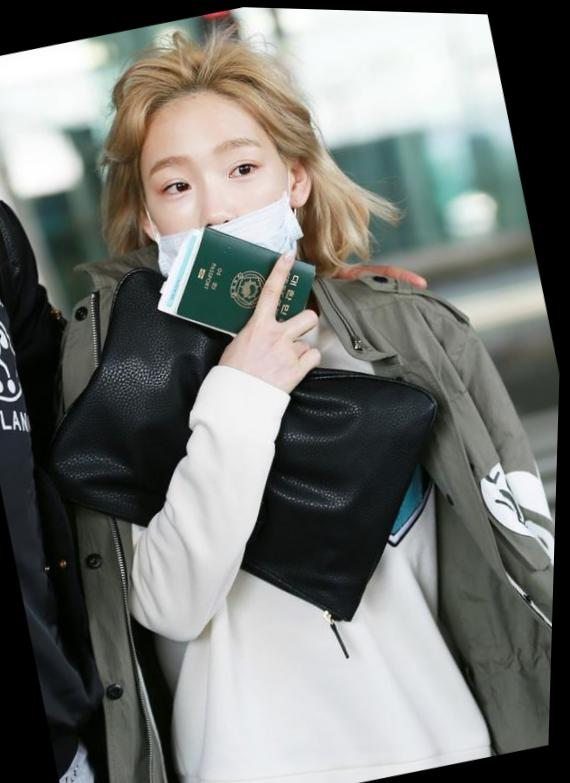WRONG: (127, 102, 313, 310)
